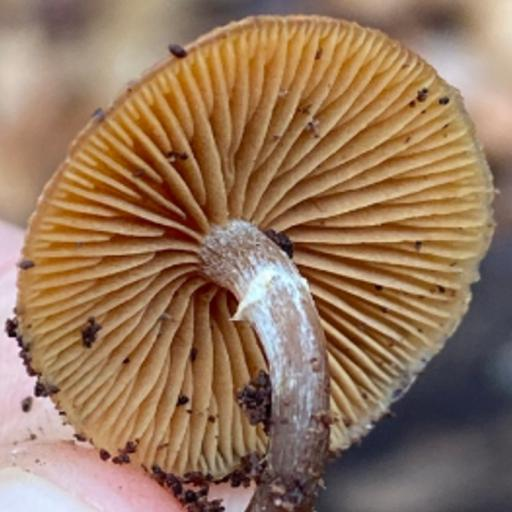mushroom: (17, 9, 503, 480)
